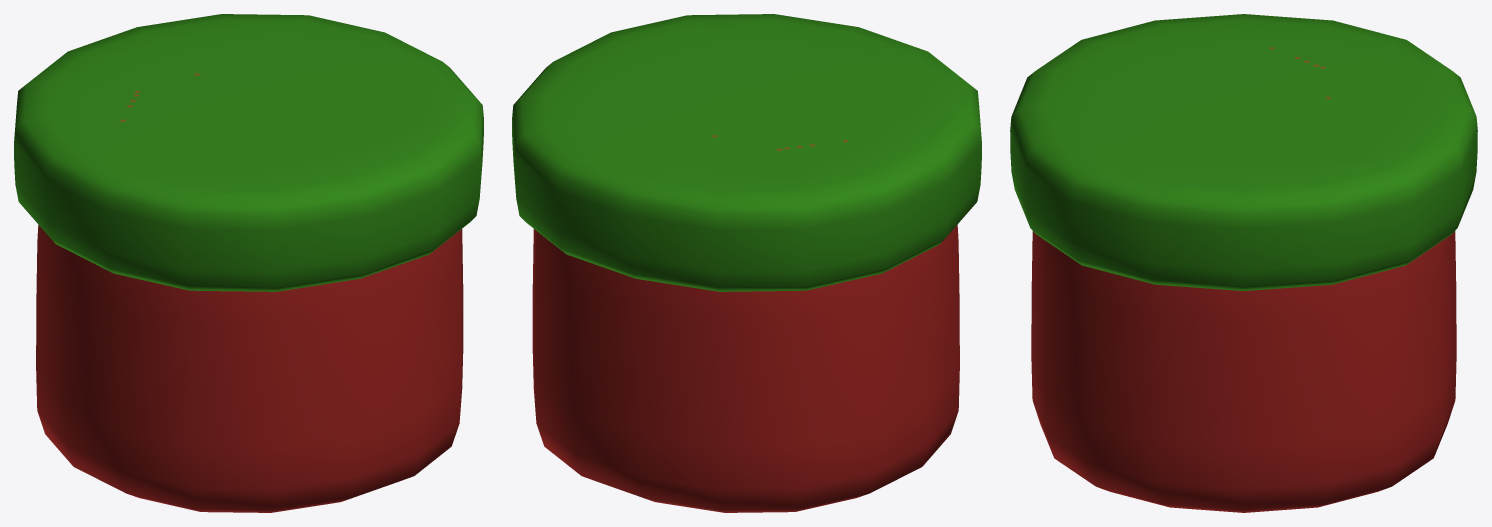
Rendered from Pote.fbx.
3 renders of one model, left to right at view 1: azimuth 30°, elevation 25°; view 2: azimuth 150°, elevation 25°; view 3: azimuth 270°, elevation 25°, orthographic.
Parts seen in each view (by area): view 1: Pote; view 2: Pote; view 3: Pote.
Boxes of the visible parts, left/top/right/bottom form: Pote: left=14, top=14, right=483, bottom=512; Pote: left=512, top=14, right=981, bottom=512; Pote: left=1010, top=14, right=1477, bottom=512.
Bounding box in the file's own units: 13.78 × 11.08 × 13.78.
1 material, 1 textured.
